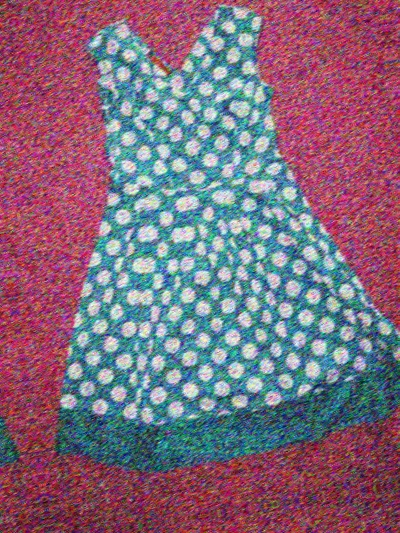Dress: (0, 0, 400, 511), (0, 20, 38, 533), (63, 507, 400, 533), (390, 0, 400, 445)
